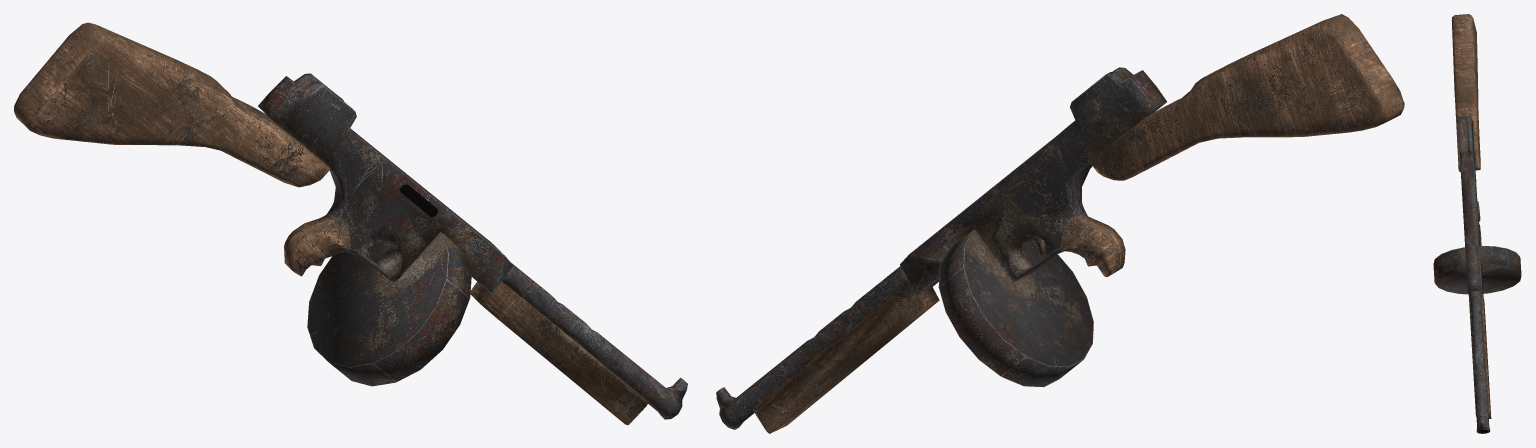
The model's file is Anim_disparar_ametralladora_objetos.0034.obj.
The picture shows the model from 3 angles, left to right: view 1: azimuth 30°, elevation 25°; view 2: azimuth 150°, elevation 25°; view 3: azimuth 270°, elevation 25°; orthographic projection. The views are drawn at different scales.
Visible parts, largest first — view 1: Ametralladora1; view 2: Ametralladora1; view 3: Ametralladora1.
Boxes of the visible parts, bbox=[...] form: Ametralladora1: bbox=[14, 22, 687, 425]; Ametralladora1: bbox=[716, 14, 1404, 433]; Ametralladora1: bbox=[1433, 14, 1521, 433].
Bounding box in the file's own units: 5.15 × 3.98 × 1.15.
Materials: 1 (1 with a texture image).
